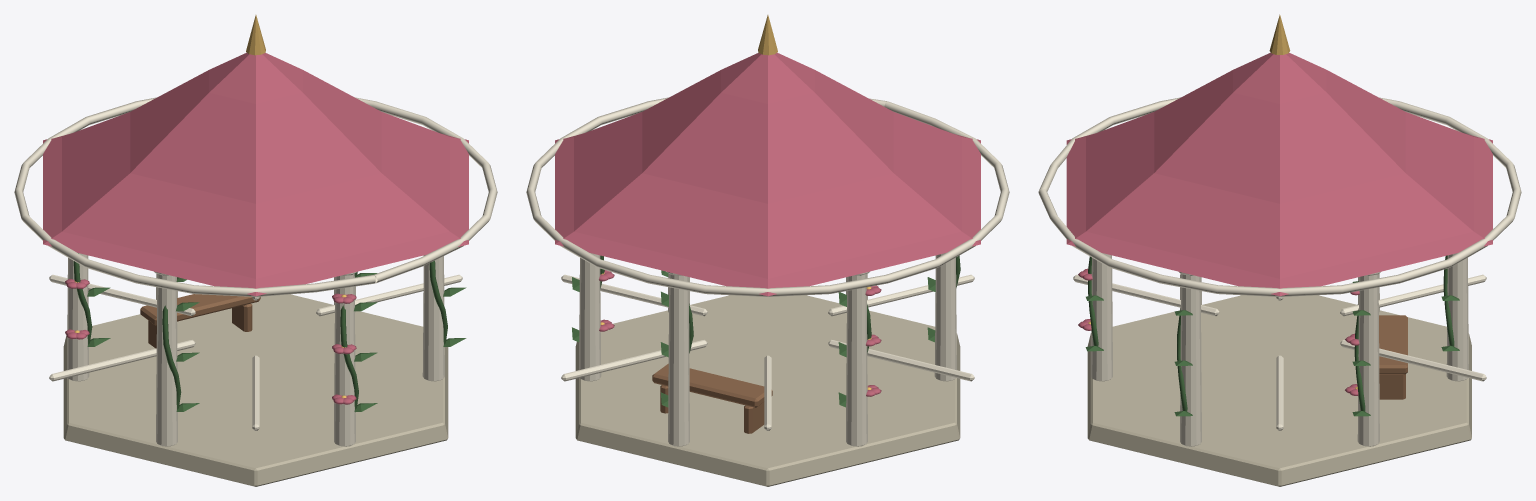
The model's file is garden_gazebo.glb.
3 views of the same model, side by side, from view 1: azimuth 30°, elevation 25°; view 2: azimuth 150°, elevation 25°; view 3: azimuth 270°, elevation 25° (orthographic).
Visible parts, largest first — view 1: Pigment_b96476, Pigment_bfb8a3, Pigment_e8e1cf, Pigment_476c42, Pigment_8c684c; view 2: Pigment_b96476, Pigment_bfb8a3, Pigment_e8e1cf, Pigment_8c684c, Pigment_476c42; view 3: Pigment_b96476, Pigment_bfb8a3, Pigment_e8e1cf, Pigment_476c42, Pigment_8c684c.
Boxes of the visible parts, x1,y1,x2,y2 form: Pigment_b96476: [43, 52, 468, 404]; Pigment_bfb8a3: [63, 294, 448, 486]; Pigment_e8e1cf: [14, 97, 497, 446]; Pigment_476c42: [73, 253, 466, 412]; Pigment_8c684c: [140, 294, 260, 348]; Pigment_b96476: [555, 52, 980, 396]; Pigment_bfb8a3: [575, 295, 960, 486]; Pigment_e8e1cf: [526, 97, 1009, 446]; Pigment_8c684c: [652, 363, 772, 433]; Pigment_476c42: [572, 255, 960, 407]; Pigment_b96476: [1066, 52, 1492, 395]; Pigment_bfb8a3: [1087, 295, 1471, 486]; Pigment_e8e1cf: [1038, 97, 1521, 446]; Pigment_476c42: [1085, 255, 1459, 416]; Pigment_8c684c: [1379, 315, 1407, 399].
Size of the model in its own units: 6.64 by 5.66 by 6.52.
